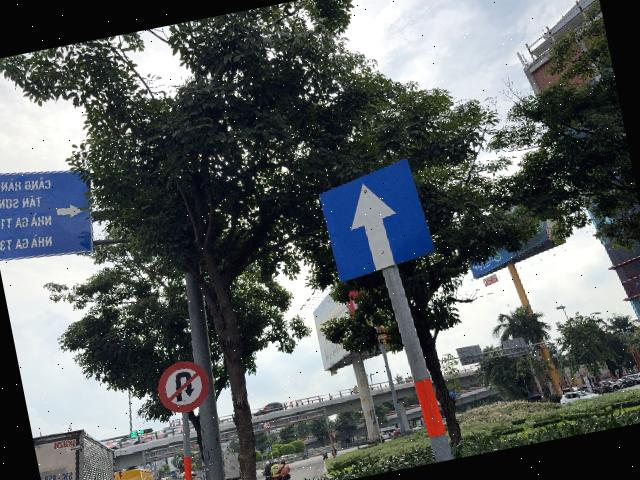cam-quay-dau-xe: (153, 356, 214, 417)
duong-mot-chieu: (315, 156, 437, 284)
